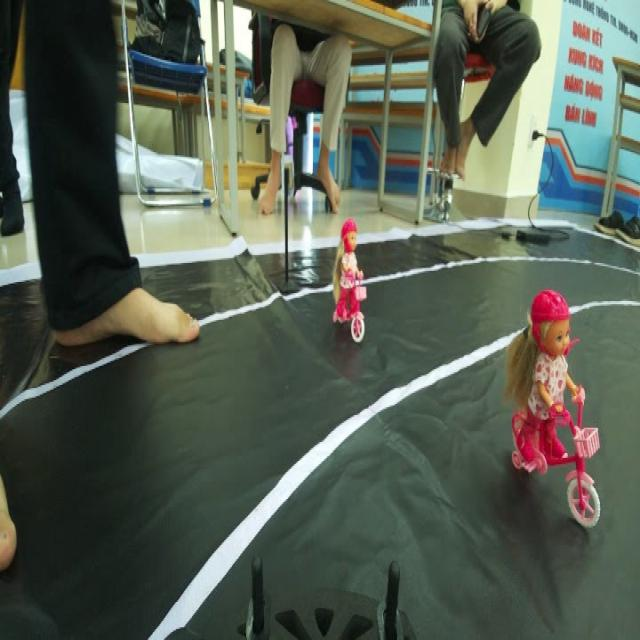pedestrian: (500, 273, 610, 544), (325, 206, 375, 353)
